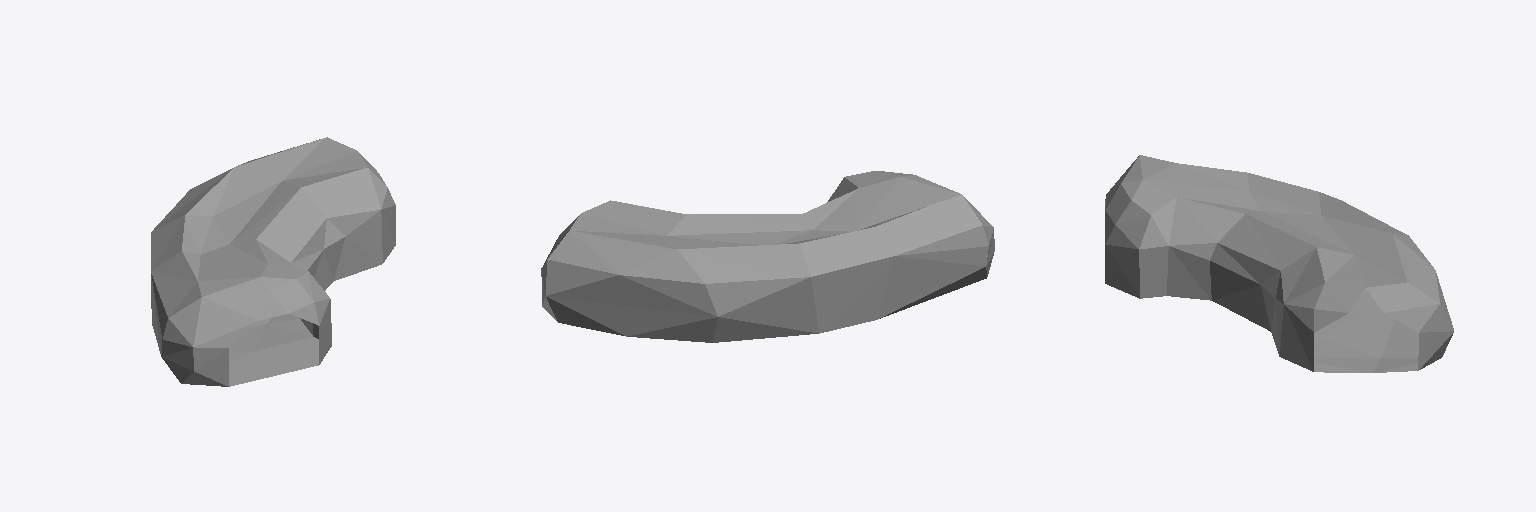
Rendered from Mesh_CavePack_Room_TurnLong_lod1.obj.
The picture shows the model from 3 angles: view 1: azimuth 30°, elevation 25°; view 2: azimuth 150°, elevation 25°; view 3: azimuth 270°, elevation 25°; orthographic projection.
Parts seen in each view (by area): view 1: Plane.002_Plane.001; view 2: Plane.002_Plane.001; view 3: Plane.002_Plane.001.
Part boxes in pixels (x1,y1,x2,y2): Plane.002_Plane.001: (151,137,395,386); Plane.002_Plane.001: (541,171,994,342); Plane.002_Plane.001: (1105,155,1453,372).
Bounding box in the file's own units: 33.39 × 9.1 × 32.08.